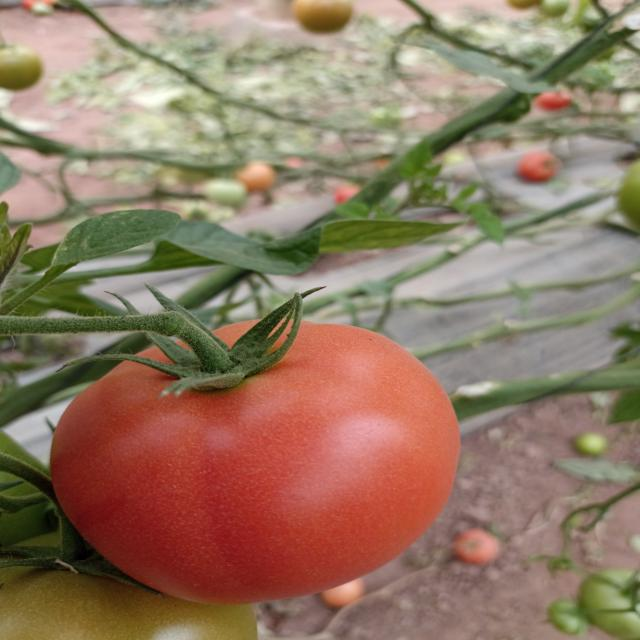Ripe Tomato: (56, 322, 465, 599)
